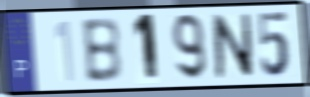1: (131, 11, 161, 86), (54, 19, 76, 84)
5: (256, 9, 296, 81)
9: (169, 12, 210, 83)
B: (79, 15, 124, 85)
N: (210, 12, 255, 81)
